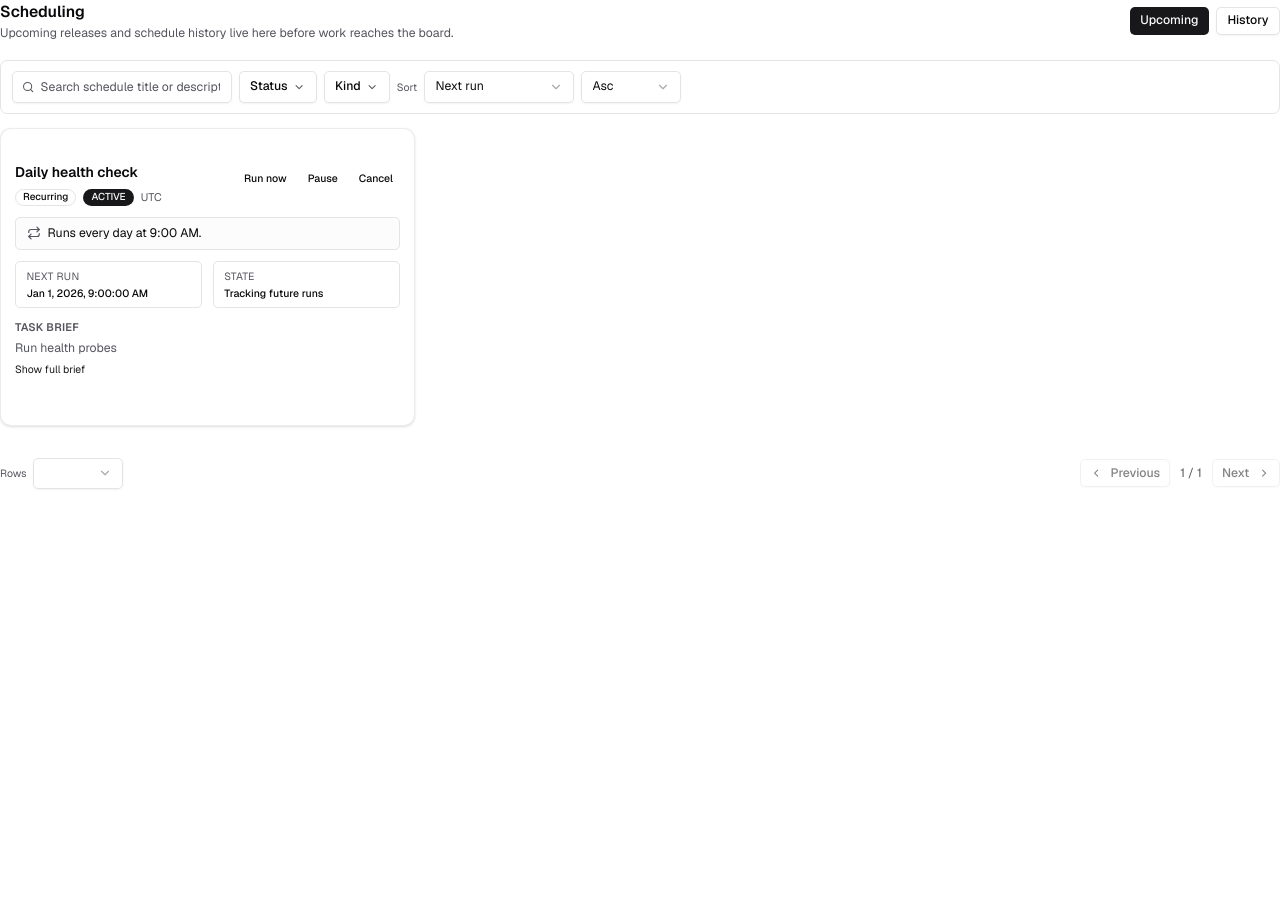
Test: SchedulingPage — Run now › opens a confirm dialog when Run now is clicked (no POST until confirmed)
Click the button with test id "run-now-button": {"x": 265, "y": 178} [237, 164, 294, 192]
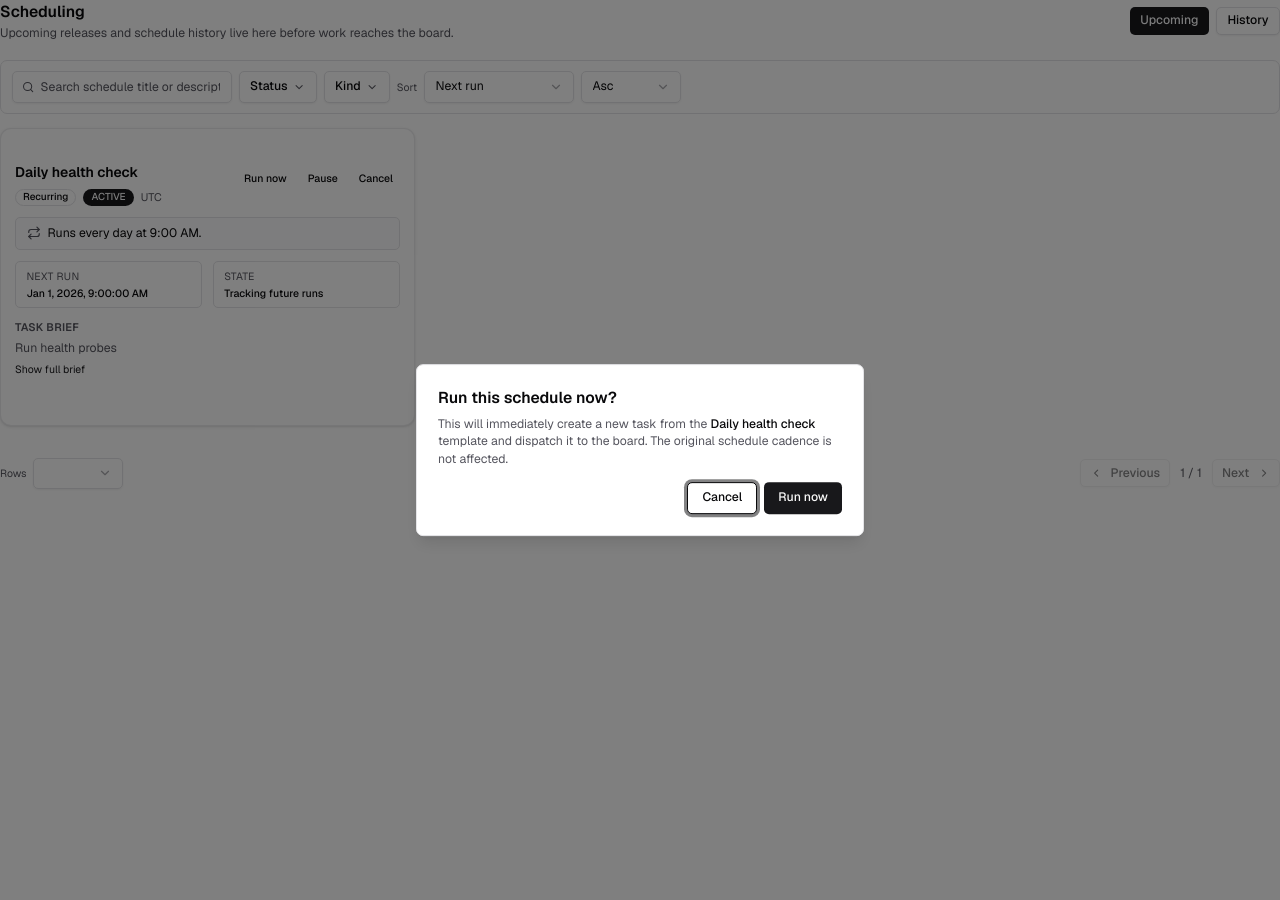
Check: the heading "Run this schedule now?" is shown, box [438, 386, 617, 411]
